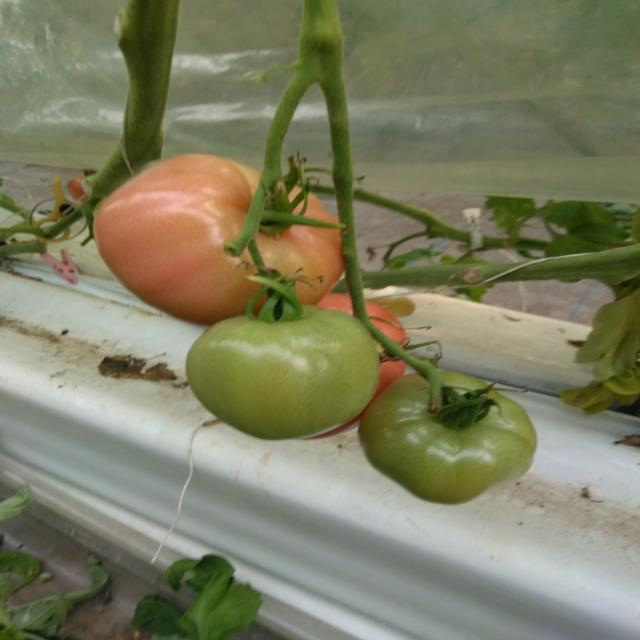sari: (102, 138, 342, 304)
yesil: (178, 308, 544, 488)
